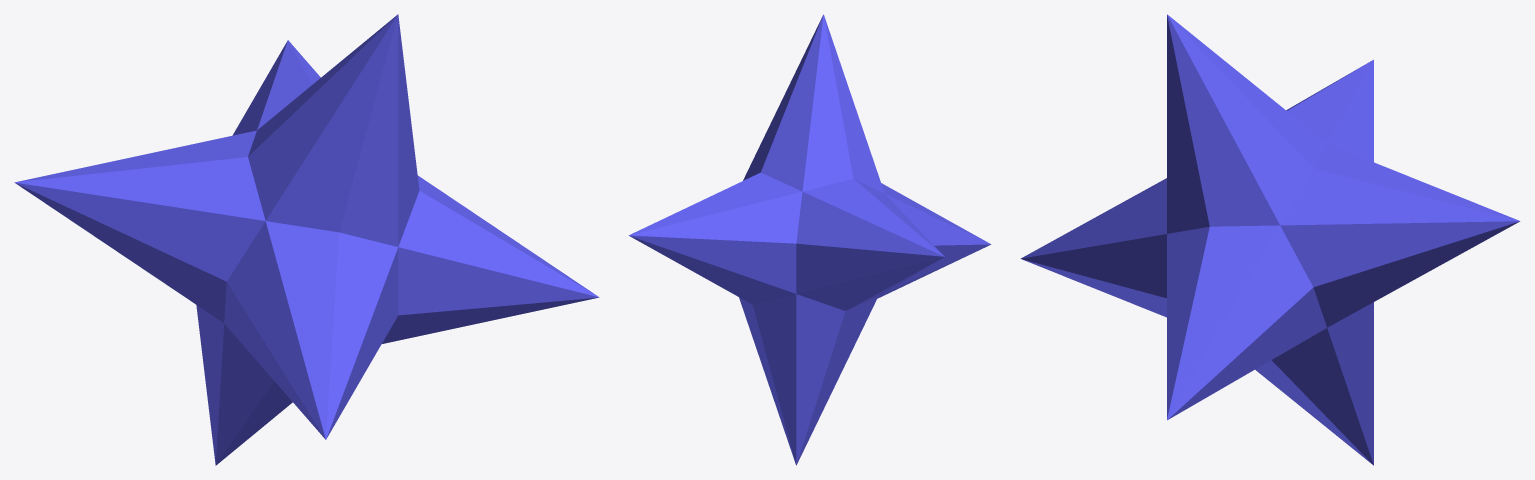
Rendered from small_rhombihexacron.obj.
3 renders of one model, left to right at view 1: azimuth 30°, elevation 25°; view 2: azimuth 150°, elevation 25°; view 3: azimuth 270°, elevation 25°, orthographic. The views are drawn at different scales.
Parts seen in each view (by area): view 1: Shape_IndexedFaceSet_Shape_IndexedFaceSet.021; view 2: Shape_IndexedFaceSet_Shape_IndexedFaceSet.021; view 3: Shape_IndexedFaceSet_Shape_IndexedFaceSet.021.
Boxes of the visible parts, x1,y1,x2,y2 form: Shape_IndexedFaceSet_Shape_IndexedFaceSet.021: [14, 14, 599, 465]; Shape_IndexedFaceSet_Shape_IndexedFaceSet.021: [628, 14, 991, 465]; Shape_IndexedFaceSet_Shape_IndexedFaceSet.021: [1020, 14, 1520, 465].
Bounding box in the file's own units: 4.67 × 4.83 × 4.51.
